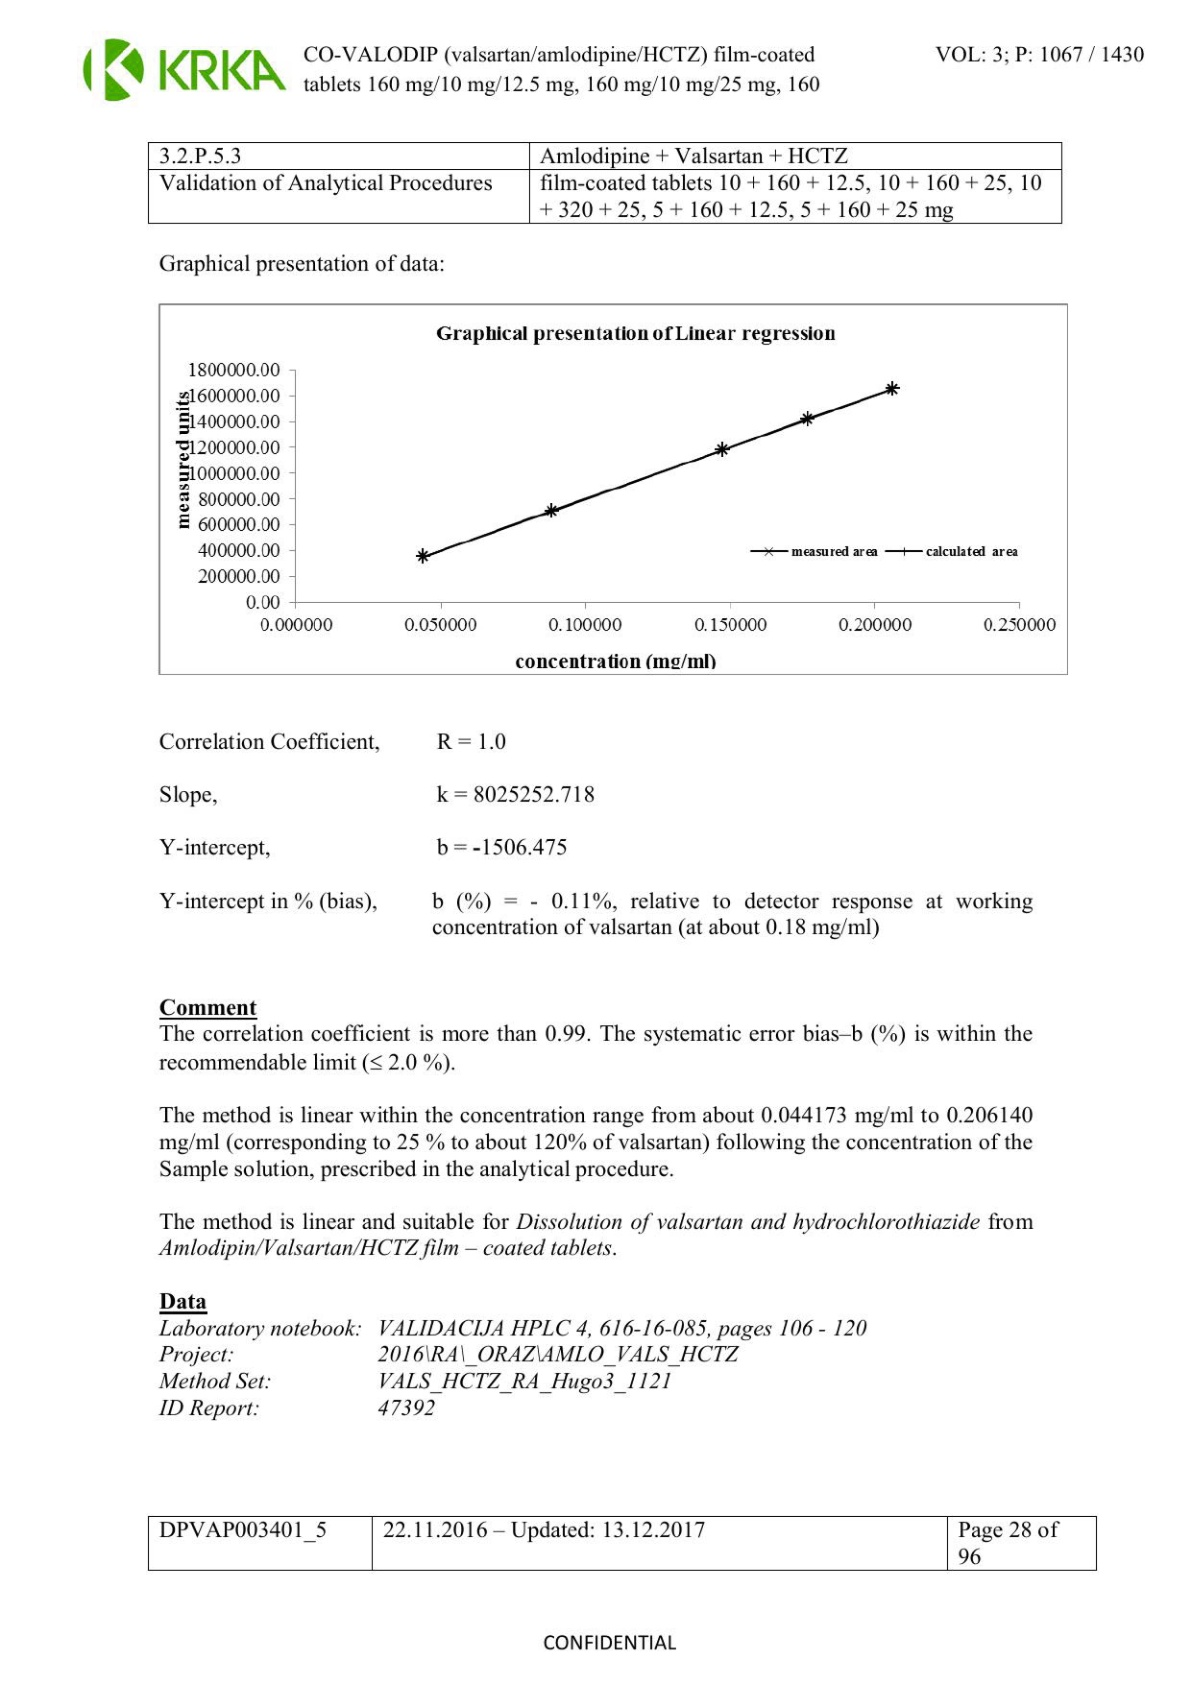full_lined: (146, 141, 1063, 224), (147, 1516, 1098, 1572)
nolines: (154, 723, 1035, 943)
